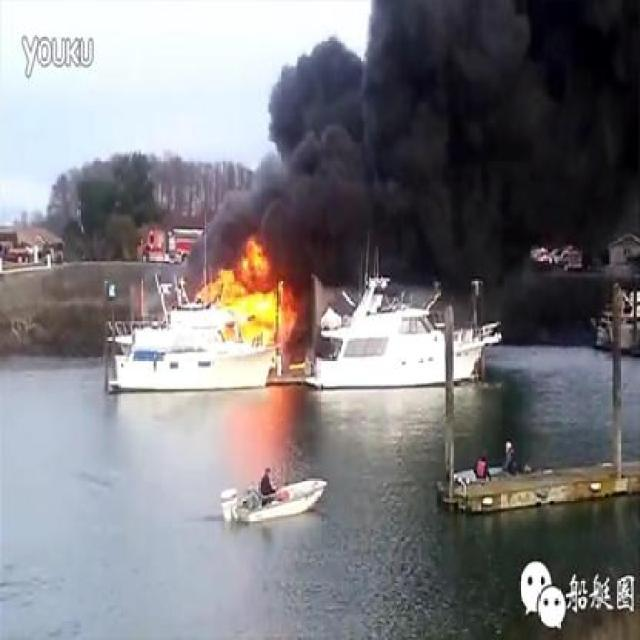Fire: (202, 241, 287, 345)
Smoke: (258, 22, 640, 244)
